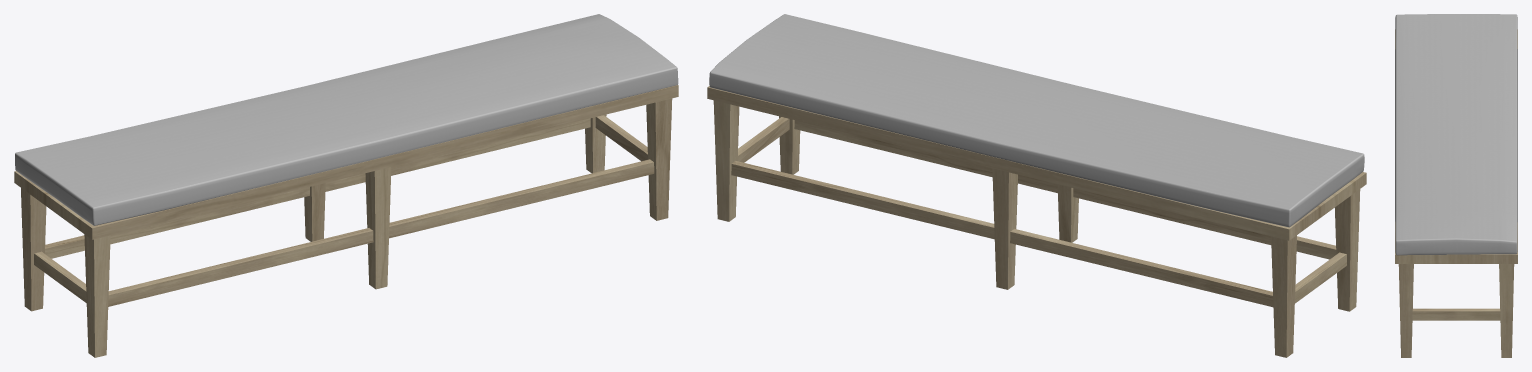
3 renders of one model, left to right at view 1: azimuth 30°, elevation 25°; view 2: azimuth 150°, elevation 25°; view 3: azimuth 270°, elevation 25°, orthographic. The views are drawn at different scales.
Visible parts, largest first — view 1: bench; view 2: bench; view 3: bench.
Boxes of the visible parts, box(x1,y1,x2,y2) form: bench: box(14, 14, 678, 357); bench: box(707, 14, 1366, 357); bench: box(1395, 14, 1517, 357).
Size of the model in its own units: 1.41 by 0.3544 by 0.3236.
1 material, 1 textured.
